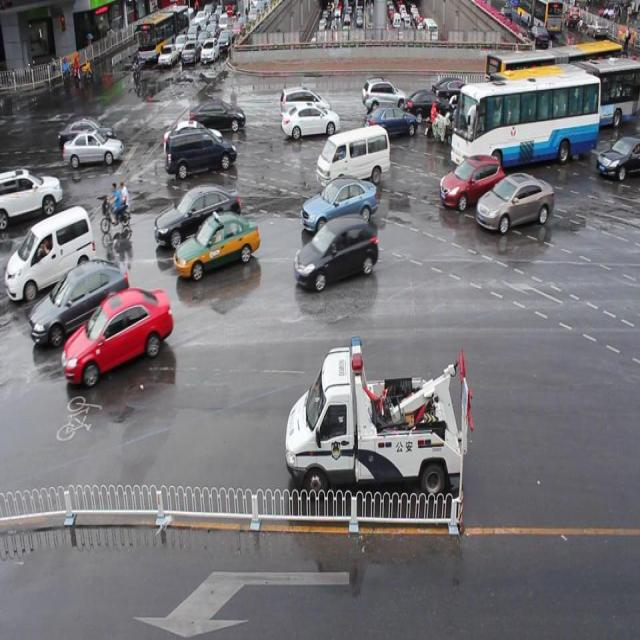bus: (284, 338, 471, 502)
car: (67, 288, 172, 383), (1, 208, 96, 304), (33, 257, 128, 344), (294, 217, 377, 287), (175, 212, 261, 277), (156, 186, 243, 247), (477, 174, 552, 232), (301, 176, 375, 231), (1, 167, 61, 231), (438, 156, 504, 209), (166, 130, 236, 176), (63, 128, 124, 169), (164, 116, 223, 157), (283, 99, 339, 139), (188, 97, 246, 132), (365, 103, 418, 139), (597, 136, 640, 178), (361, 74, 406, 114), (400, 90, 449, 125), (280, 86, 329, 121), (59, 121, 114, 152), (430, 76, 482, 108), (457, 95, 489, 134)
truck: (317, 125, 389, 187)
van: (451, 79, 598, 166), (490, 57, 640, 128), (485, 41, 621, 102)
